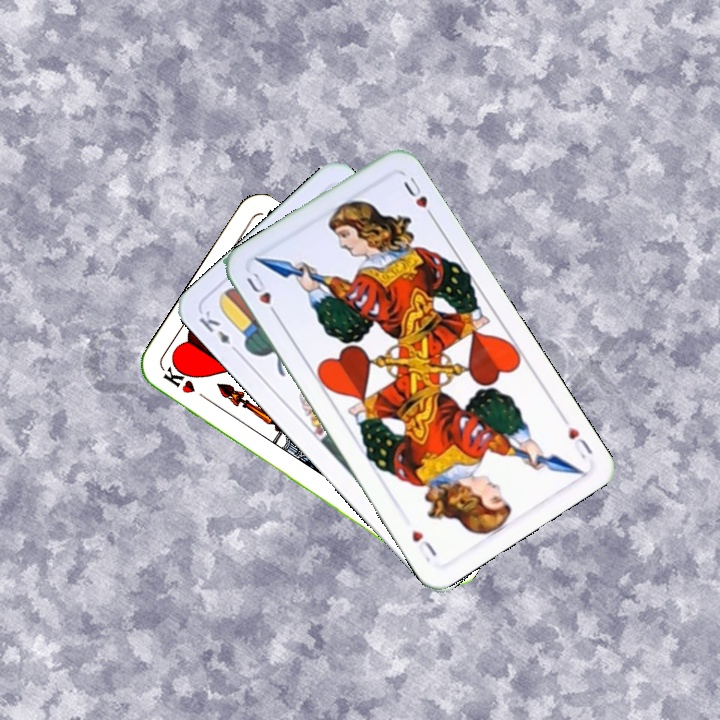EK: (194, 306, 243, 357)
HK: (158, 362, 212, 405)
HU: (242, 268, 282, 321), (563, 422, 596, 462)
